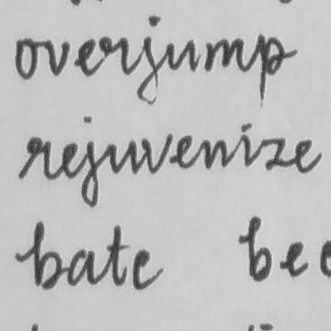e: (292, 136, 324, 175), (175, 132, 198, 173), (59, 139, 79, 181)
i: (236, 120, 256, 169)
j: (80, 113, 102, 210)
n: (201, 136, 230, 171)
r: (16, 134, 55, 184)
u: (105, 137, 138, 177)
v: (139, 131, 175, 175)
z: (257, 135, 290, 171)
